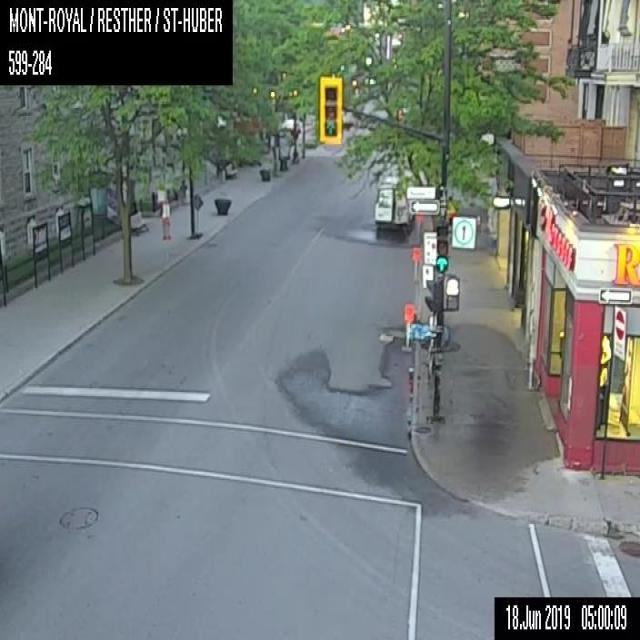construction: (401, 304, 413, 349), (411, 247, 420, 282), (416, 213, 422, 236)
vehicle: (374, 175, 416, 227)
